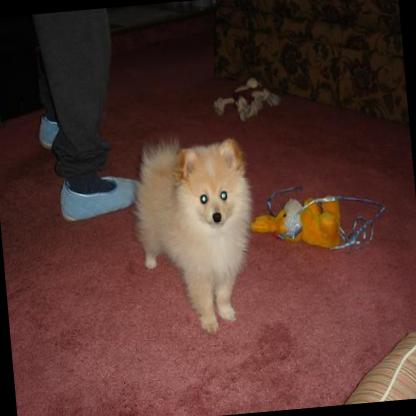Pomeranian: (124, 127, 264, 340)
